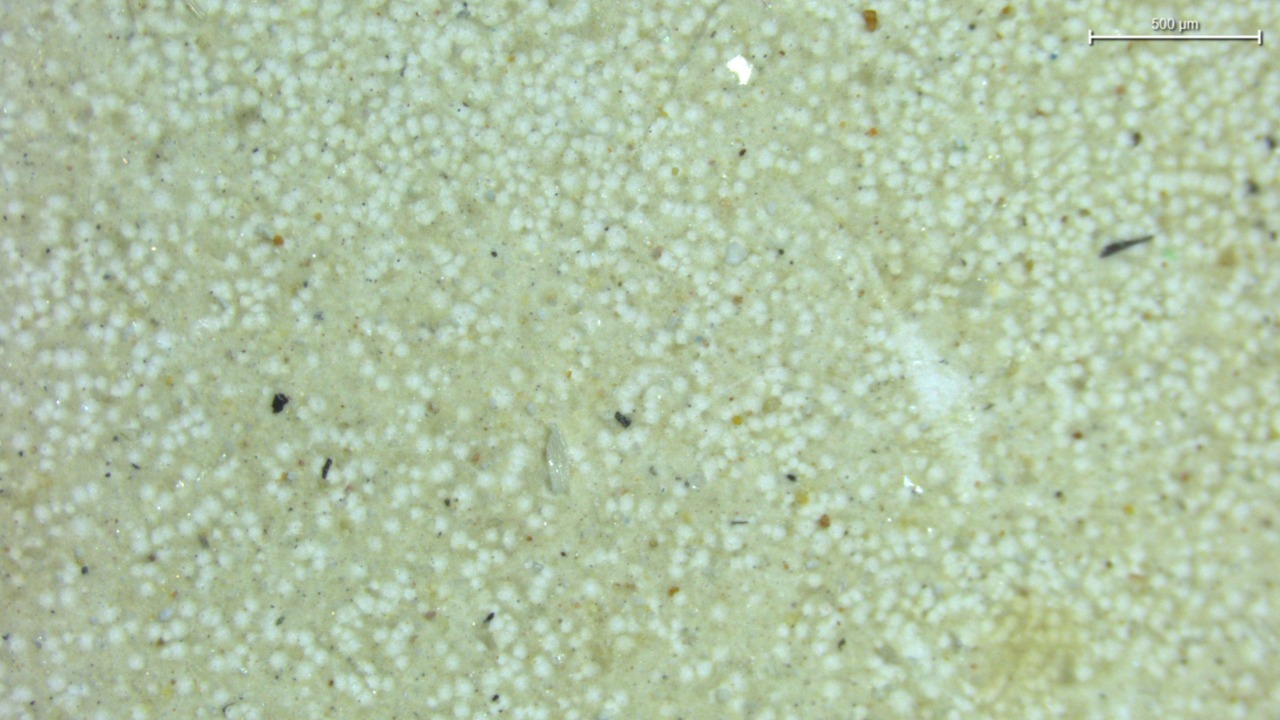microplastic_fragment: (544, 427, 572, 493)
